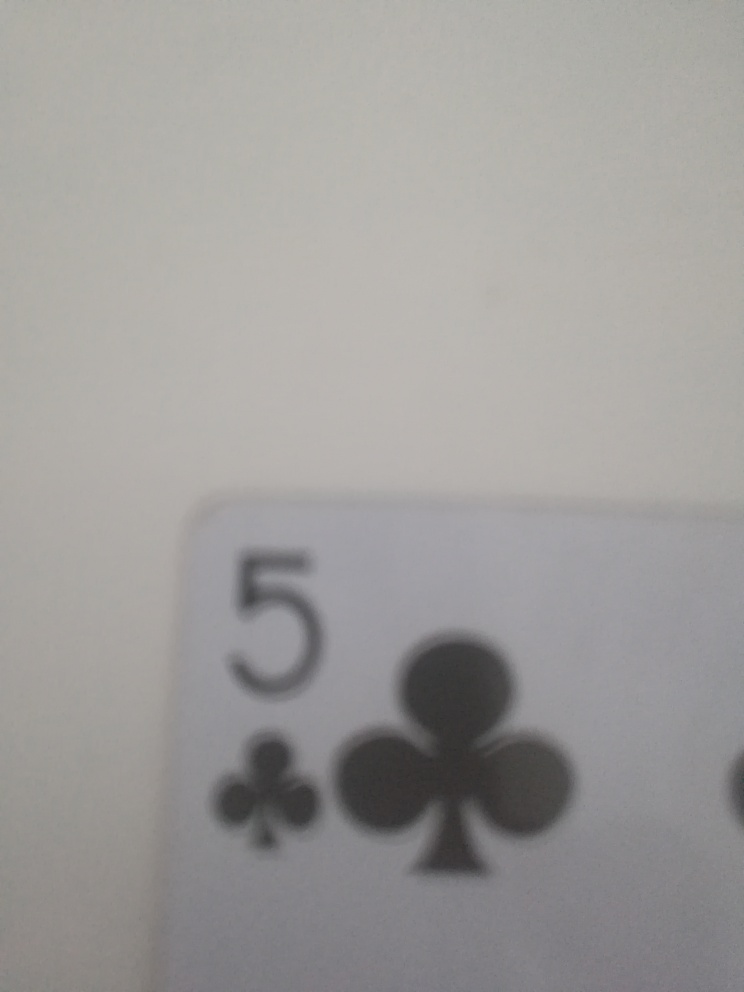5C: (206, 537, 327, 867)
